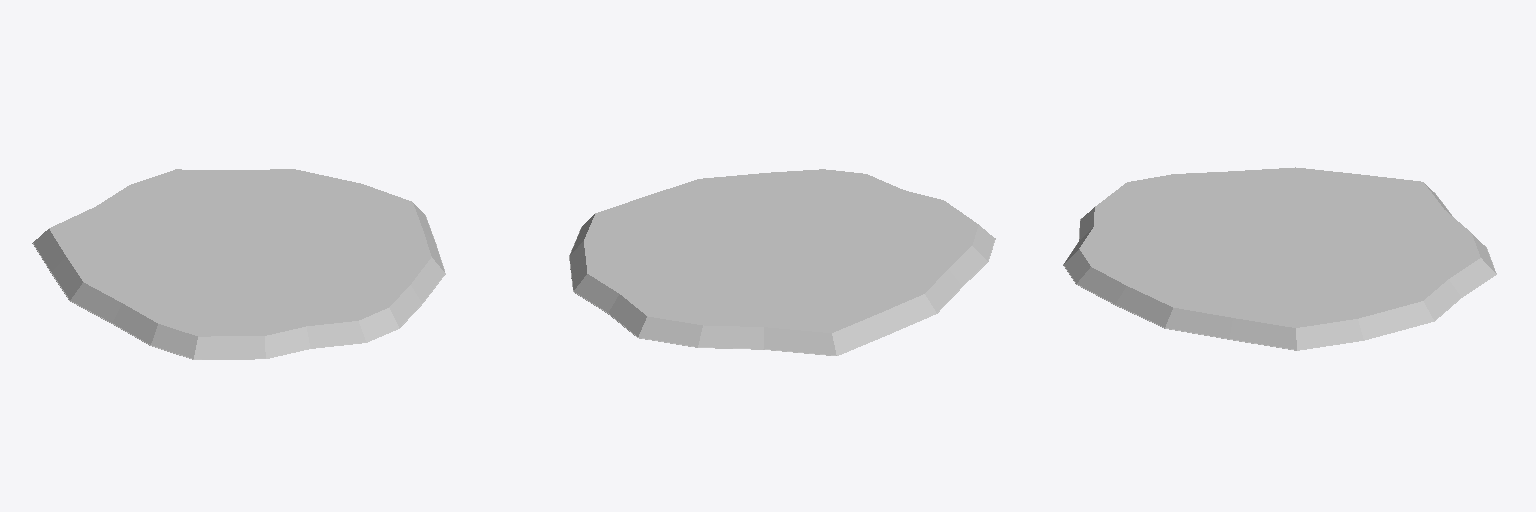
File: waterSpill.obj
The picture shows the model from 3 angles: view 1: azimuth 30°, elevation 25°; view 2: azimuth 150°, elevation 25°; view 3: azimuth 270°, elevation 25°; orthographic projection.
Parts seen in each view (by area): view 1: waterSpill:waterSpill; view 2: waterSpill:waterSpill; view 3: waterSpill:waterSpill.
Boxes of the visible parts, <box> form: waterSpill:waterSpill: <box>32,169,445,359</box>; waterSpill:waterSpill: <box>570,169,995,355</box>; waterSpill:waterSpill: <box>1063,167,1495,350</box>.
Bounding box in the file's own units: 3.09 × 0.1358 × 3.27.